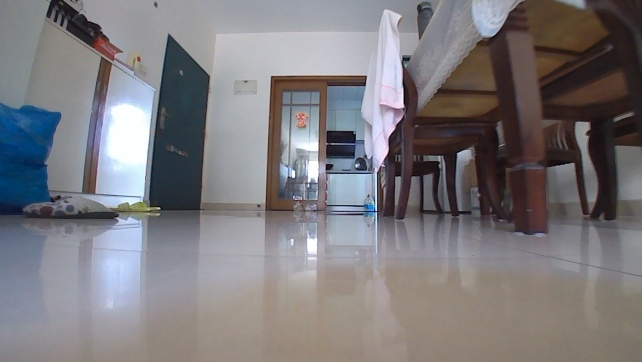cupboard: (325, 169, 373, 212)
dining_table: (359, 0, 641, 236)
door_anno: (147, 29, 212, 220)
slipper: (110, 200, 150, 213), (130, 200, 161, 213)
